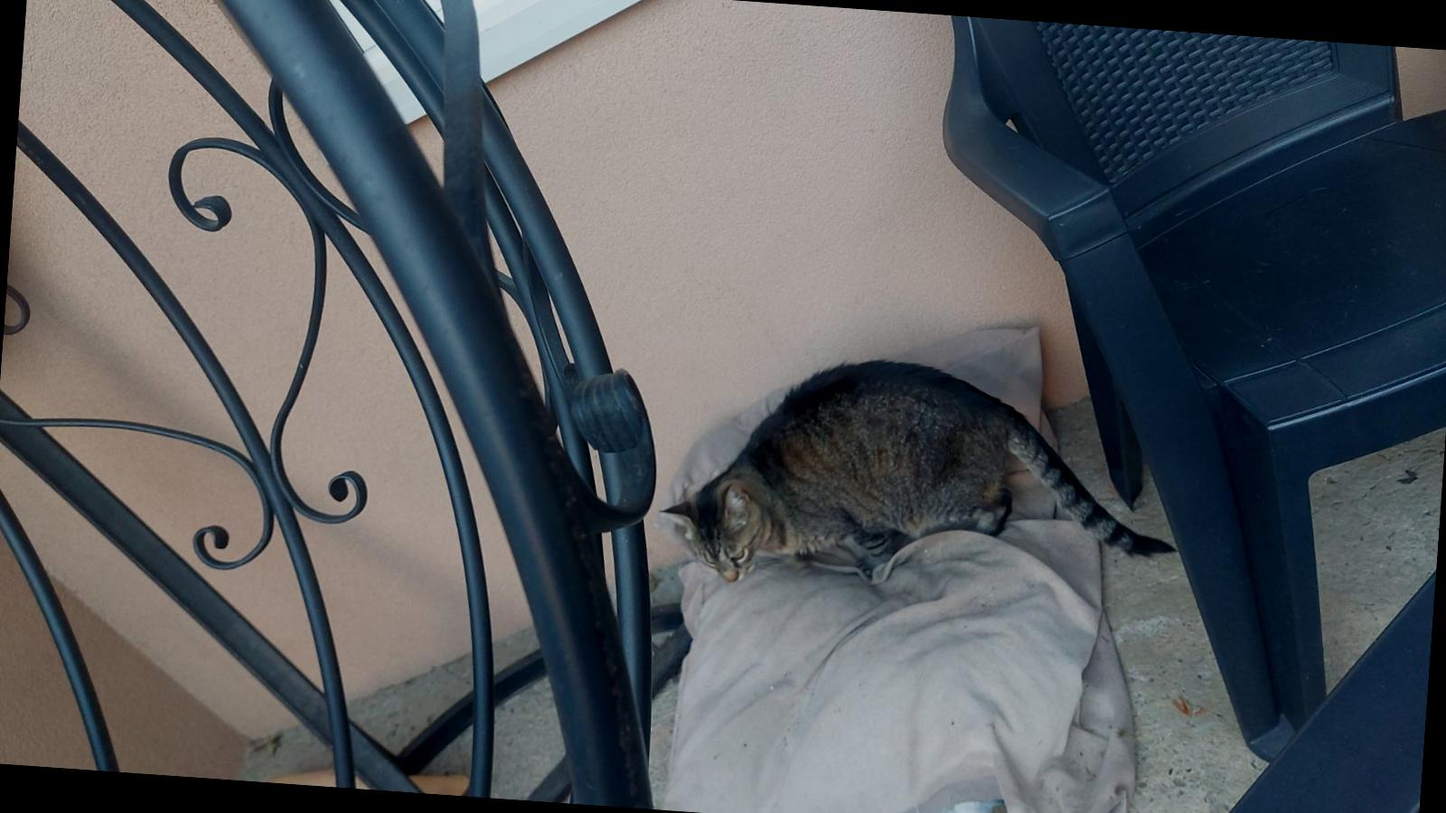macka: (655, 342, 1186, 616)
